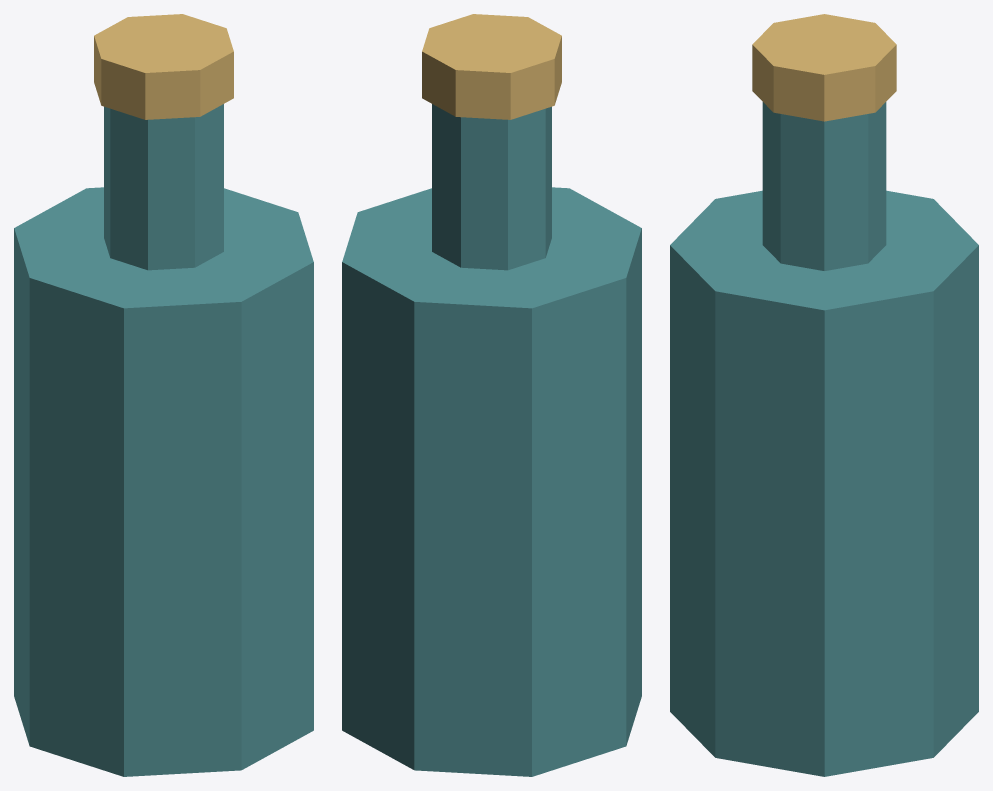
Rendered from SM_CH_Paper_Bottle.fbx.
The picture shows the model from 3 angles, left to right: view 1: azimuth 30°, elevation 25°; view 2: azimuth 150°, elevation 25°; view 3: azimuth 270°, elevation 25°; orthographic projection.
Parts seen in each view (by area): view 1: SM_CH_Paper_Bottle; view 2: SM_CH_Paper_Bottle; view 3: SM_CH_Paper_Bottle.
Part boxes in pixels (x1,y1,x2,y2): SM_CH_Paper_Bottle: (14, 14, 313, 776); SM_CH_Paper_Bottle: (342, 14, 641, 776); SM_CH_Paper_Bottle: (670, 14, 978, 776).
Size of the model in its own units: 3000 by 3000 by 7150.
